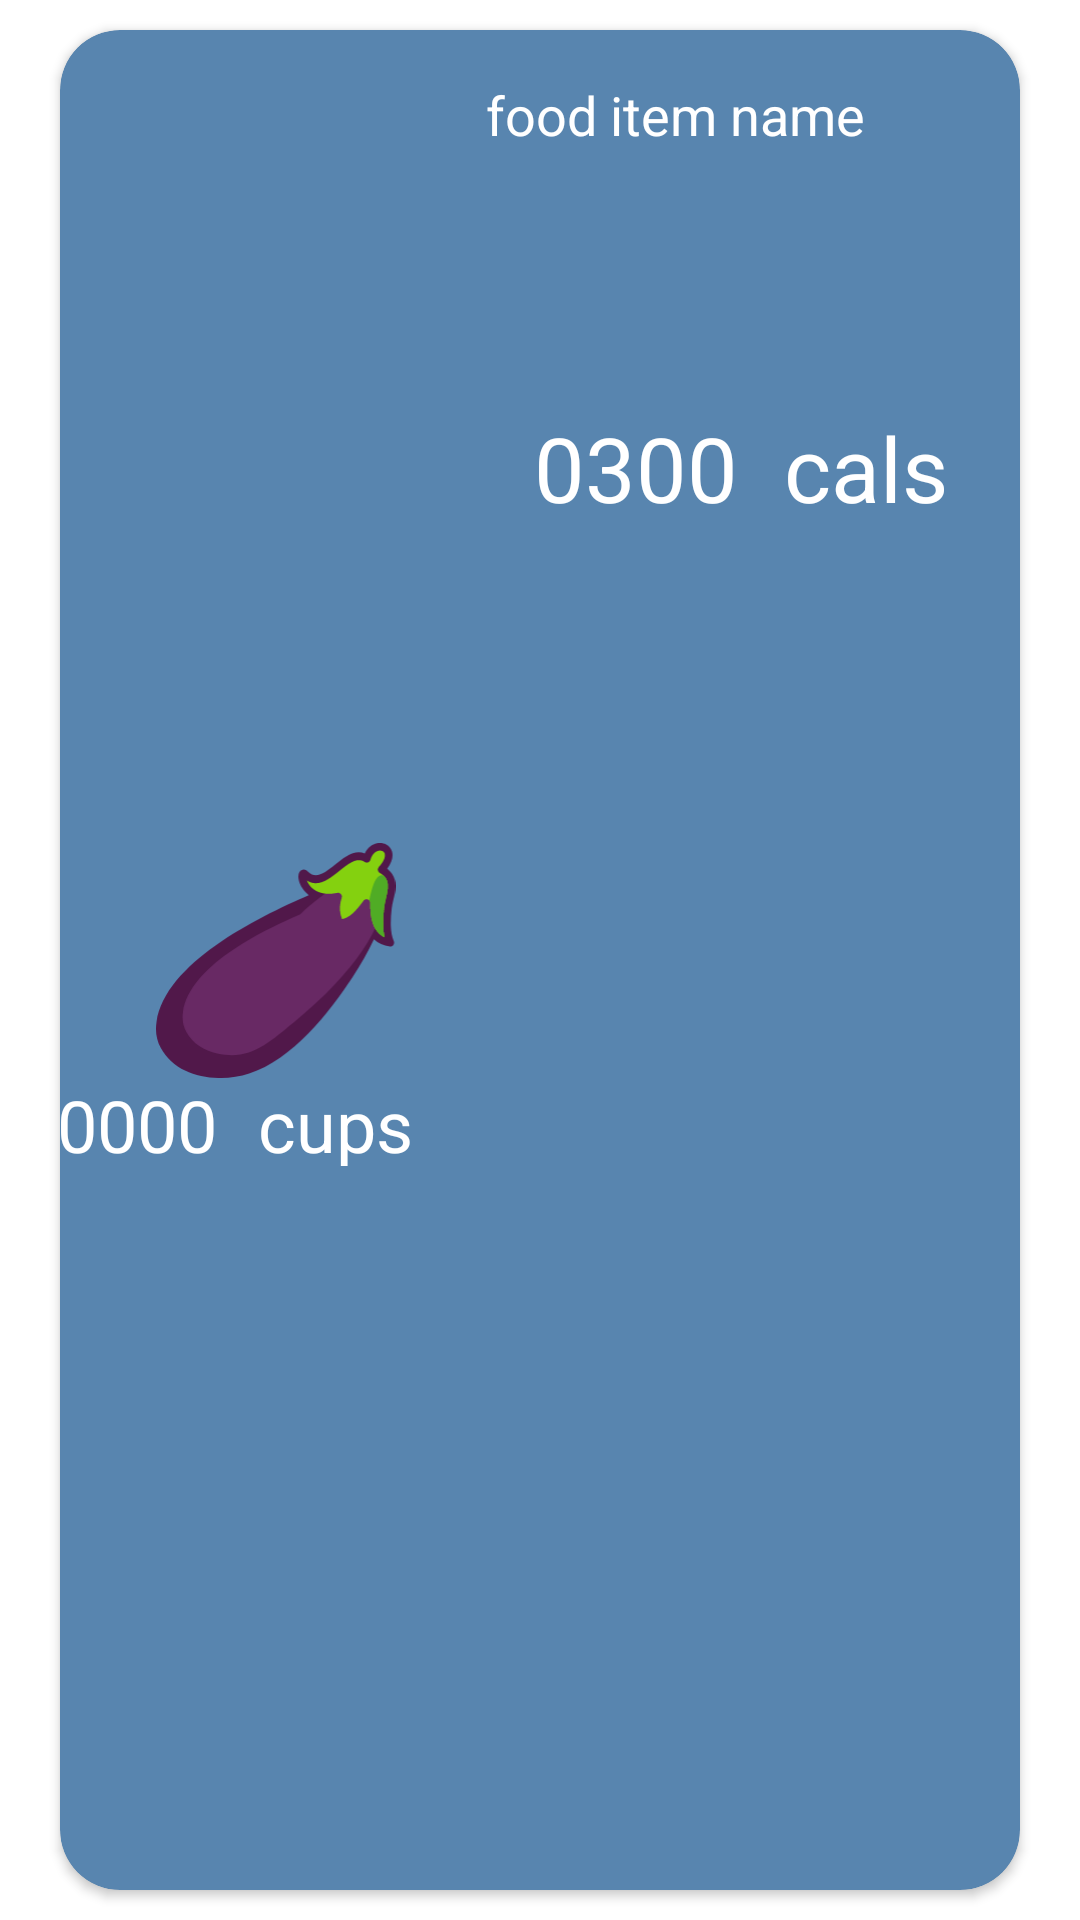

Where to tap for icons on this 1080 x 1920 app screen, as (x,y):
eggplant: (276,960)
